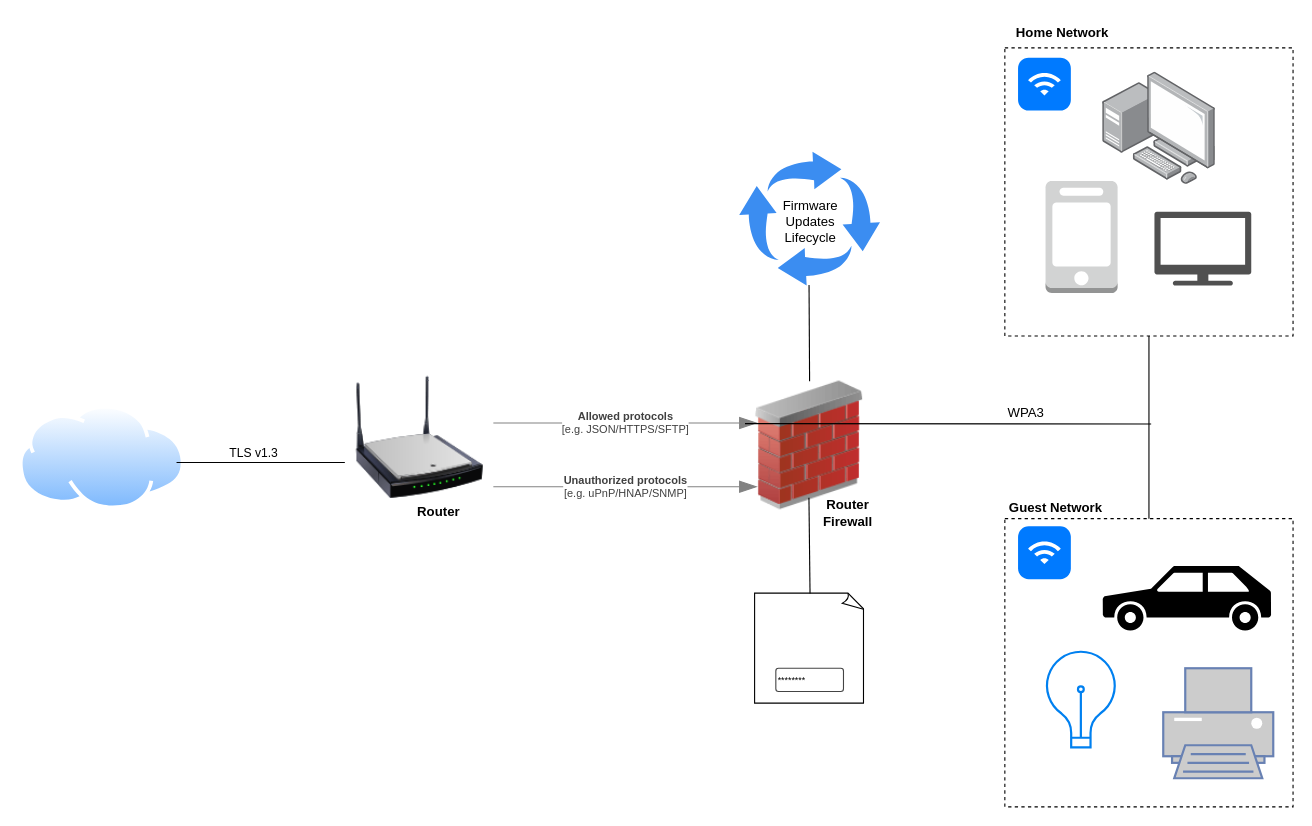
This 1312x826 diagram has some shape labels left out. The box of each missing label's shape, as (x1, y1, x2, y2) in pixels:
Internet: (19, 405, 185, 509)
Password Policy: (754, 592, 865, 703)
